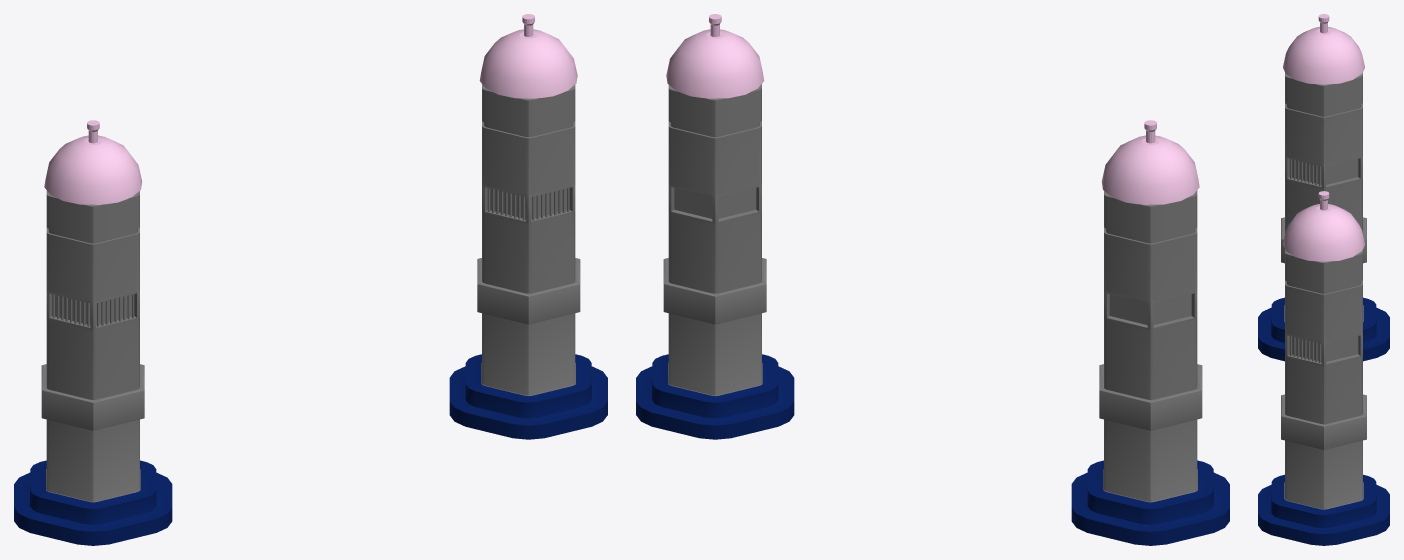
3 views of the same model, side by side, from view 1: azimuth 30°, elevation 25°; view 2: azimuth 150°, elevation 25°; view 3: azimuth 270°, elevation 25° (orthographic). The views are drawn at different scales.
Parts seen in each view (by area): view 1: Object002; view 2: Object002; view 3: Object002.
Part boxes in pixels (x1=…): Object002: x1=14, y1=14, x2=607, y2=545; Object002: x1=636, y1=14, x2=1229, y2=545; Object002: x1=1258, y1=14, x2=1389, y2=545.
Bounding box in the file's own units: 8134 × 5150 × 1910.
